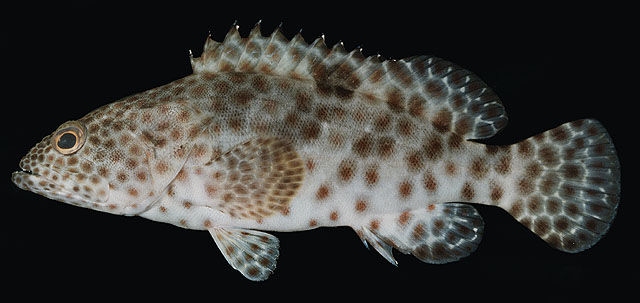fish: (9, 20, 623, 282)
